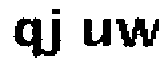j: (43, 6, 68, 60)
q: (12, 16, 43, 58)
u: (79, 16, 112, 49)
w: (114, 17, 160, 51)
